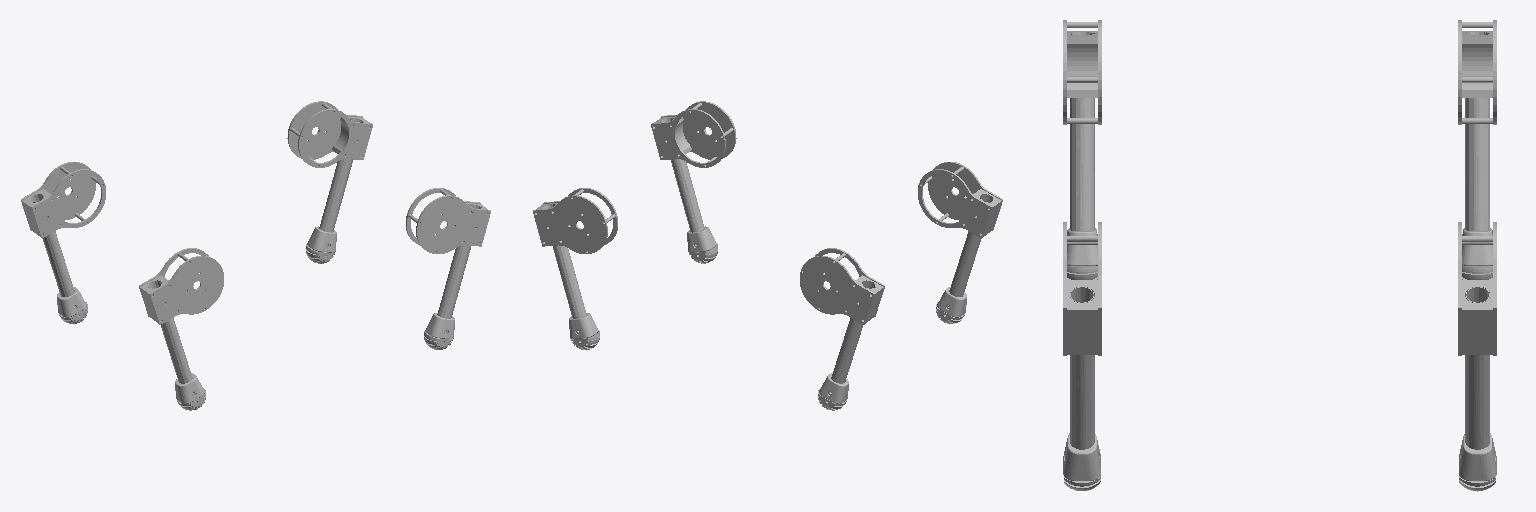
robot.urdf — legged_tinymal_description:
<?xml version="1.0" encoding="utf-8"?>
<!-- This URDF was automatically created by SolidWorks to URDF Exporter! Originally created by [author] ([email redacted]) 
     Commit Version: 1.6.0-4-g7f85cfe  Build Version: 1.6.7995.38578
     For more information, please see http://wiki.ros.org/sw_urdf_exporter -->
<robot
  name="legged_tinymal_description">
    
    <!-- <link name="base">
    <visual>
      <origin xyz="0 0 0" rpy="0 -0 0"/>
      <geometry>
        <box size="0.001 0.001 0.001"/>
      </geometry>
    </visual> -->
  <!-- </link>
    <joint name="floating_base" type="fixed">
    <origin xyz="0 0 0" rpy="0 -0 0"/>
    <axis xyz="0 0 0"/>
    <parent link="base"/>
    <child link="trunk"/>
  </joint> -->
  
  <link
    name="trunk">
    <inertial>
      <origin
        xyz="-0.00077 4E-05 0.0214"
        rpy="0 0 0" />
      <mass
        value="2.2445" />
      <inertia
        ixx="0.00464"
        ixy="0"
        ixz="-7E-05"
        iyy="0.01611"
        iyz="-1.0788E-09"
        izz="0.01829" />
    </inertial>
    <visual>
      <origin
        xyz="0 0 0"
        rpy="0 0 0" />
      <geometry>
        <mesh
          filename="../meshes/visual/trunk.STL" />
      </geometry>
      <material
        name="">
        <color
          rgba="0.75294 0.75294 0.75294 1" />
      </material>
    </visual>
    <collision>
       <origin
        xyz="0 0 0.02600"
        rpy="0 0 0" />
      <geometry>
        <box size="0.235 0.13 0.0865"/>
      </geometry>
    </collision>
  </link>
  
  <!-- IMU Sensor -->
  <link name="imu_link"/>

  <joint name="imu_joint" type="fixed">
    <parent link="trunk"/>
    <child link="imu_link"/>
    <origin xyz="0 0 0" rpy="0 0 0"/>
  </joint>

  
  <link
    name="LF_hip">
    <inertial>
      <origin
        xyz="0.03613 0.00556 -6E-05"
        rpy="0 0 0" />
      <mass
        value="0.3988" />
      <inertia
        ixx="0.0002"
        ixy="-1E-05"
        ixz="0"
        iyy="0.00019"
        iyz="0"
        izz="0.00021" />
    </inertial>
    <visual>
      <origin
        xyz="0 0 0"
        rpy="0 0 0" />
      <geometry>
        <mesh
          filename="../meshes/visual/LF_hip.STL" />
      </geometry>
      <material
        name="">
        <color
          rgba="0.75294 0.75294 0.75294 1" />
      </material>
    </visual>
    <collision>
      <origin
        xyz="0.034 0 0"
        rpy="0 0 0" />
      <geometry>
        <box size="0.0615 0.0685 0.0572"/>
      </geometry>
    </collision>
  </link>
  <joint
    name="LF_HAA"
    type="revolute">
    <origin
      xyz="0.1155 0.045 0.03125"
      rpy="0 0 0" />
    <parent
      link="trunk" />
    <child
      link="LF_hip" />
    <axis
      xyz="1 0 0" />
    <limit
      lower="-1.0"
      upper="1.0"
      effort="8"
      velocity="5" />
  </joint>
  <link
    name="LF_thigh">
    <inertial>
      <origin
        xyz="-7E-05 0.05966 -0.10269"
        rpy="0 0 0" />
      <mass
        value="0.39342" />
      <inertia
        ixx="0.00075"
        ixy="0"
        ixz="0"
        iyy="0.00077"
        iyz="7E-05"
        izz="0.00014" />
    </inertial>
    <visual>
      <origin
        xyz="0 0 0"
        rpy="0 0 0" />
      <geometry>
        <mesh
          filename="../meshes/visual/LF_thigh.STL" />
      </geometry>
      <material
        name="">
        <color
          rgba="0.75294 0.75294 0.75294 1" />
      </material>
    </visual>
    <collision>
      <origin
        xyz="0 0.04933 -0.055"
        rpy="0 0 0" />
     <geometry>
        <box size="0.058 0.025 0.17"/>
      </geometry>
    </collision>
  </link>
  <joint
    name="LF_HFE"
    type="revolute">
    <origin
      xyz="0.039 0 0"
      rpy="0 0 0" />
    <parent
      link="LF_hip" />
    <child
      link="LF_thigh" />
    <axis
      xyz="0 1 0" />
    <limit
      lower="-3.14"
      upper="3.14"
      effort="8"
      velocity="5" />
  </joint>
  <link
    name="LF_calf">
    <inertial>
      <origin
        xyz="0.017651 0.025067 -0.033532"
        rpy="0 0 0" />
      <mass
        value="0.055514" />
      <inertia
        ixx="0.0001447"
        ixy="0.0000024"
        ixz="-0.000018"
        iyy="0.00017"
        iyz="-0.0000063"
        izz="0.0000331" />
    </inertial>
    <visual>
      <origin
        xyz="0 0 0"
        rpy="0 0 0" />
      <geometry>
        <mesh
          filename="../meshes/visual/LF_calf.STL" />
      </geometry>
      <material
        name="">
        <color
          rgba="0.75294 0.75294 0.75294 1" />
      </material>
    </visual>
  <!-- <collision name="box_collision">
      <origin
        xyz="0.0265 0.0215 -0.0645"
        rpy="0 0.285515 0" />
     <geometry>
        <box size="0.02 0.02 0.151"/>
      </geometry>
    </collision>

    <collision  name="cylinder_collision">
      <origin
        xyz="0 0 0"
        rpy="1.5707963267948966 0 0" />
      <geometry>
         <cylinder length="0.059" radius="0.034"/>
      </geometry>
    </collision> -->
  </link>
  <joint
    name="LF_KFE"
    type="revolute">
    <origin
      xyz="0 0.0615 -0.12"
      rpy="0 0 0" />
    <parent
      link="LF_thigh" />
    <child
      link="LF_calf" />
    <axis
      xyz="0 1 0" />
    <limit
      lower="-3.14"
      upper="3.14"
      effort="8"
      velocity="5" />
  </joint>
  <link
    name="LF_FOOT">
    <inertial>
      <origin
        xyz="-0.00064634 -0.0001029 -0.0064935"
        rpy="0 0 0" />
      <mass
        value="0.0071899" />
      <inertia
        ixx="3.9786E-07"
        ixy="-1.6023E-11"
        ixz="-8.4272E-10"
        iyy="5.3916E-07"
        iyz="-9.4887E-13"
        izz="7.0206E-07" />
    </inertial>
    <visual>
      <origin
        xyz="0 0 0"
        rpy="0 0 0" />
      <geometry>
        <mesh
          filename="../meshes/visual/LF_FOOT.STL" />
      </geometry>
      <material
        name="">
        <color
          rgba="0.75294 0.75294 0.75294 1" />
      </material>
    </visual>
    <collision>
      <origin
        xyz="0 0 0"
        rpy="0 0 0" />
       <geometry>
         <sphere radius="0.015"/>
      </geometry>
    </collision>
  </link>
  <joint
    name="LF_foot_fixed"
    type="fixed" dont_collapse="true">
    <origin
      xyz="0.0010679 0.0215 -0.13646"
      rpy="0 0.30118 0" />
    <parent
      link="LF_calf" />
    <child
      link="LF_FOOT" />
    <axis
      xyz="0 0 0" />
  </joint>
  <link
    name="LH_hip">
    <inertial>
      <origin
        xyz="-0.03607 0.00556 0"
        rpy="0 0 0" />
      <mass
        value="0.3988" />
      <inertia
        ixx="0.0002"
        ixy="1E-05"
        ixz="0"
        iyy="0.00019"
        iyz="0"
        izz="0.00021" />
    </inertial>
    <visual>
      <origin
        xyz="0 0 0"
        rpy="0 0 0" />
      <geometry>
        <mesh
          filename="../meshes/visual/LH_hip.STL" />
      </geometry>
      <material
        name="">
        <color
          rgba="0.75294 0.75294 0.75294 1" />
      </material>
    </visual>
    <collision>
      <origin
        xyz="-0.034 0 0"
        rpy="0 0 0" />
      <geometry>
        <box size="0.0615 0.0685 0.0572"/>
      </geometry>
    </collision>
  </link>
  <joint
    name="LH_HAA"
    type="revolute">
    <origin
      xyz="-0.1155 0.045 0.03125"
      rpy="0 0 0" />
    <parent
      link="trunk" />
    <child
      link="LH_hip" />
    <axis
      xyz="1 0 0" />
    <limit
      lower="-1.0"
      upper="1.0"
      effort="8"
      velocity="5" />
  </joint>
  <link
    name="LH_thigh">
    <inertial>
      <origin
        xyz="-7E-05 0.05966 -0.10269"
        rpy="0 0 0" />
      <mass
        value="0.39342" />
      <inertia
        ixx="0.00075"
        ixy="0"
        ixz="0"
        iyy="0.00077"
        iyz="7E-05"
        izz="0.00014" />
    </inertial>
    <visual>
      <origin
        xyz="0 0 0"
        rpy="0 0 0" />
      <geometry>
        <mesh
          filename="../meshes/visual/LH_thigh.STL" />
      </geometry>
      <material
        name="">
        <color
          rgba="0.75294 0.75294 0.75294 1" />
      </material>
    </visual>
    <collision>
      <origin
        xyz="0 0.04933 -0.055"
        rpy="0 0 0" />
      <geometry>
        <box size="0.058 0.025 0.17"/>
      </geometry>
    </collision>
  </link>
  <joint
    name="LH_HFE"
    type="revolute">
    <origin
      xyz="-0.039 0 0"
      rpy="0 0 0" />
    <parent
      link="LH_hip" />
    <child
      link="LH_thigh" />
    <axis
      xyz="0 1 0" />
    <limit
      lower="-3.14"
      upper="3.14"
      effort="8"
      velocity="5" />
  </joint>
  <link
    name="LH_calf">
    <inertial>
      <origin
        xyz="-0.017651 0.025067 -0.033532"
        rpy="0 0 0" />
      <mass
        value="0.055514" />
      <inertia
        ixx="0.0001447"
        ixy="-0.0000023"
        ixz="0.000018"
        iyy="0.00017"
        iyz="-0.0000063"
        izz="0.0000331" />
    </inertial>
    <visual>
      <origin
        xyz="0 0 0"
        rpy="0 0 0" />
      <geometry>
        <mesh
          filename="../meshes/visual/LH_calf.STL" />
      </geometry>
      <material
        name="">
        <color
          rgba="0.75294 0.75294 0.75294 1" />
      </material>
    </visual>
    <!-- <collision name="box_collision">
        <origin
          xyz="-0.0265 0.0215 -0.0645"
          rpy="0 -0.285515 0" />
      <geometry>
          <box size="0.02 0.02 0.151"/>
        </geometry>
      </collision>

      <collision  name="cylinder_collision">
        <origin
          xyz="0 0 0"
          rpy="1.5707963267948966 0 0" />
        <geometry>
          <cylinder length="0.059" radius="0.034"/>
        </geometry>
      </collision> -->
  </link>
  <joint
    name="LH_KFE"
    type="revolute">
    <origin
      xyz="0 0.0615 -0.12"
      rpy="0 0 0" />
    <parent
      link="LH_thigh" />
    <child
      link="LH_calf" />
    <axis
      xyz="0 1 0" />
    <limit
      lower="-3.14"
      upper="3.14"
      effort="8"
      velocity="5" />
  </joint>
  <link
    name="LH_FOOT">
    <inertial>
      <origin
        xyz="0.00064634 0.00010256 -0.0064935"
        rpy="0 0 0" />
      <mass
        value="0.0071899" />
      <inertia
        ixx="3.9786E-07"
        ixy="-1.6023E-11"
        ixz="8.4272E-10"
        iyy="5.3916E-07"
        iyz="9.4887E-13"
        izz="7.0206E-07" />
    </inertial>
    <visual>
      <origin
        xyz="0 0 0"
        rpy="0 0 0" />
      <geometry>
        <mesh
          filename="../meshes/visual/LH_FOOT.STL" />
      </geometry>
      <material
        name="">
        <color
          rgba="0.75294 0.75294 0.75294 1" />
      </material>
    </visual>
    <collision>
      <origin
        xyz="0 0 0"
        rpy="0 0 0" />
      <geometry>
         <sphere radius="0.015"/>
      </geometry>
    </collision>
  </link>
  <joint
    name="LH_foot_fixed"
    type="fixed" dont_collapse="true">
    <origin
      xyz="-0.0010679 0.0215 -0.13646"
      rpy="0 -0.30118 0" />
    <parent
      link="LH_calf" />
    <child
      link="LH_FOOT" />
    <axis
      xyz="0 0 0" />
  </joint>
  <link
    name="RF_hip">
    <inertial>
      <origin
        xyz="0.03613 -0.00556 6E-05"
        rpy="0 0 0" />
      <mass
        value="0.3988" />
      <inertia
        ixx="0.0002"
        ixy="1E-05"
        ixz="0"
        iyy="0.00019"
        iyz="0"
        izz="0.00021" />
    </inertial>
    <visual>
      <origin
        xyz="0 0 0"
        rpy="0 0 0" />
      <geometry>
        <mesh
          filename="../meshes/visual/RF_hip.STL" />
      </geometry>
      <material
        name="">
        <color
          rgba="0.75294 0.75294 0.75294 1" />
      </material>
    </visual>
    <collision>
      <origin
        xyz="0.034 0 0"
        rpy="0 0 0" />
      <geometry>
        <box size="0.0615 0.0685 0.0572"/>
      </geometry>
    </collision>
  </link>
  <joint
    name="RF_HAA"
    type="revolute">
    <origin
      xyz="0.1155 -0.045 0.03125"
      rpy="0 0 0" />
    <parent
      link="trunk" />
    <child
      link="RF_hip" />
    <axis
      xyz="1 0 0" />
    <limit
      lower="-1.0"
      upper="1.0"
      effort="8"
      velocity="5" />
  </joint>
  <link
    name="RF_thigh">
    <inertial>
      <origin
        xyz="7E-05 -0.05966 -0.10269"
        rpy="0 0 0" />
      <mass
        value="0.39342" />
      <inertia
        ixx="0.00075"
        ixy="0"
        ixz="0"
        iyy="0.00077"
        iyz="-7E-05"
        izz="0.00014" />
    </inertial>
    <visual>
      <origin
        xyz="0 0 0"
        rpy="0 0 0" />
      <geometry>
        <mesh
          filename="../meshes/visual/RF_thigh.STL" />
      </geometry>
      <material
        name="">
        <color
          rgba="0.75294 0.75294 0.75294 1" />
      </material>
    </visual>
    <collision>
      <origin
        xyz="0 -0.04933 -0.055"
        rpy="0 0 0" />
     <geometry>
        <box size="0.058 0.025 0.17"/>
      </geometry>
    </collision>
  </link>
  <joint
    name="RF_HFE"
    type="revolute">
    <origin
      xyz="0.039 0 0"
      rpy="0 0 0" />
    <parent
      link="RF_hip" />
    <child
      link="RF_thigh" />
    <axis
      xyz="0 1 0" />
    <limit
      lower="-3.14"
      upper="3.14"
      effort="8"
      velocity="5" />
  </joint>
  <link
    name="RF_calf">
    <inertial>
      <origin
        xyz="0.017651 -0.025067 -0.033532"
        rpy="0 0 0" />
      <mass
        value="0.055514" />
      <inertia
        ixx="0.0001447"
        ixy="-0.0000023"
        ixz="-0.000018"
        iyy="0.00017"
        iyz="0.0000063"
        izz="0.0000331" />
    </inertial>
    <visual>
      <origin
        xyz="0 0 0"
        rpy="0 0 0" />
      <geometry>
        <mesh
          filename="../meshes/visual/RF_calf.STL" />
      </geometry>
      <material
        name="">
        <color
          rgba="0.75294 0.75294 0.75294 1" />
      </material>
    </visual>
    <!-- <collision name="box_collision">
      <origin
        xyz="0.0265 -0.0215 -0.0645"
        rpy="0 0.285515 0" />
     <geometry>
        <box size="0.02 0.02 0.151"/>
      </geometry>
    </collision>

    <collision  name="cylinder_collision">
      <origin
        xyz="0 0 0"
        rpy="1.5707963267948966 0 0" />
      <geometry>
         <cylinder length="0.059" radius="0.034"/>
      </geometry>
    </collision> -->
  </link>
  <joint
    name="RF_KFE"
    type="revolute">
    <origin
      xyz="0 -0.0615 -0.12"
      rpy="0 0 0" />
    <parent
      link="RF_thigh" />
    <child
      link="RF_calf" />
    <axis
      xyz="0 1 0" />
    <limit
      lower="-3.14"
      upper="3.14"
      effort="8"
      velocity="5" />
  </joint>
  <link
    name="RF_FOOT">
    <inertial>
      <origin
        xyz="-0.000646344707630891 -0.000102557226076855 -0.00649347563476943"
        rpy="0 0 0" />
      <mass
        value="0.00718991200200165" />
      <inertia
        ixx="3.97863421526666E-07"
        ixy="-1.60233402167348E-11"
        ixz="-8.42722301567321E-10"
        iyy="5.39156314496222E-07"
        iyz="-9.48867150910211E-13"
        izz="7.020631044807E-07" />
    </inertial>
    <visual>
      <origin
        xyz="0 0 0"
        rpy="0 0 0" />
      <geometry>
        <mesh
          filename="../meshes/visual/RF_FOOT.STL" />
      </geometry>
      <material
        name="">
        <color
          rgba="0.752941176470588 0.752941176470588 0.752941176470588 1" />
      </material>
    </visual>
    <collision>
      <origin
        xyz="0 0 0"
        rpy="0 0 0" />
      <geometry>
          <sphere radius="0.015"/>
      </geometry>
    </collision>
  </link>
  <joint
    name="RF_foot_fixed"
    type="fixed" dont_collapse="true">
    <origin
      xyz="0.00106792747273632 -0.0215000000000012 -0.136459186319245"
      rpy="0 0.30117918583646 0" />
    <parent
      link="RF_calf" />
    <child
      link="RF_FOOT" />
    <axis
      xyz="0 0 0" />
  </joint>
  <link
    name="RH_hip">
    <inertial>
      <origin
        xyz="-0.0362 -0.00556 0"
        rpy="0 0 0" />
      <mass
        value="0.3988" />
      <inertia
        ixx="0.0002"
        ixy="-1E-05"
        ixz="0"
        iyy="0.00019"
        iyz="0"
        izz="0.00021" />
    </inertial>
    <visual>
      <origin
        xyz="0 0 0"
        rpy="0 0 0" />
      <geometry>
        <mesh
          filename="../meshes/visual/RH_hip.STL" />
      </geometry>
      <material
        name="">
        <color
          rgba="1 1 1 1" />
      </material>
    </visual>
    <collision>
       <origin
        xyz="-0.034 0 0"
        rpy="0 0 0" />
      <geometry>
        <box size="0.0615 0.0685 0.0572"/>
      </geometry>
    </collision>
  </link>
  <joint
    name="RH_HAA"
    type="revolute">
    <origin
      xyz="-0.1155 -0.0449999999999956 0.0312500000000044"
      rpy="0 0 0" />
    <parent
      link="trunk" />
    <child
      link="RH_hip" />
    <axis
      xyz="1 0 0" />
    <limit
      lower="-1.0"
      upper="1.0"
      effort="8"
      velocity="5" />
  </joint>
  <link
    name="RH_thigh">
    <inertial>
      <origin
        xyz="7E-05 -0.05966 -0.10269"
        rpy="0 0 0" />
      <mass
        value="0.39342" />
      <inertia
        ixx="0.00075"
        ixy="0"
        ixz="0"
        iyy="0.00077"
        iyz="-7E-05"
        izz="0.00014" />
    </inertial>
    <visual>
      <origin
        xyz="0 0 0"
        rpy="0 0 0" />
      <geometry>
        <mesh
          filename="../meshes/visual/RH_thigh.STL" />
      </geometry>
      <material
        name="">
        <color
          rgba="0.75294 0.75294 0.75294 1" />
      </material>
    </visual>
    <collision>
      <origin
        xyz="0 -0.04933 -0.055"
        rpy="0 0 0" />
     <geometry>
        <box size="0.058 0.025 0.17"/>
      </geometry>
    </collision>
  </link>
  <joint
    name="RH_HFE"
    type="revolute">
    <origin
      xyz="-0.0390000000000044 0 0"
      rpy="0 0 0" />
    <parent
      link="RH_hip" />
    <child
      link="RH_thigh" />
    <axis
      xyz="0 1 0" />
    <limit
      lower="-3.14"
      upper="3.14"
      effort="8"
      velocity="5" />
  </joint>
  <link
    name="RH_calf">
    <inertial>
      <origin
        xyz="-0.017651 -0.025067 -0.033532"
        rpy="0 0 0" />
      <mass
        value="0.055514" />
      <inertia
        ixx="0.0001447"
        ixy="0.0000023"
        ixz="0.000018"
        iyy="0.00017"
        iyz="0.0000063"
        izz="0.0000331" />
    </inertial>
    <visual>
      <origin
        xyz="0 0 0"
        rpy="0 0 0" />
      <geometry>
        <mesh
          filename="../meshes/visual/RH_calf.STL" />
      </geometry>
      <material
        name="">
        <color
          rgba="0.75294 0.75294 0.75294 1" />
      </material>
    </visual>
    <!-- <collision name="box_collision">
        <origin
          xyz="-0.0265 -0.0215 -0.0645"
          rpy="0 -0.285515 0" />
      <geometry>
          <box size="0.02 0.02 0.151"/>
        </geometry>
      </collision>

      <collision  name="cylinder_collision">
        <origin
          xyz="0 0 0"
          rpy="1.5707963267948966 0 0" />
        <geometry>
          <cylinder length="0.059" radius="0.034"/>
        </geometry>
      </collision> -->
  </link>
  <joint
    name="RH_KFE"
    type="revolute">
    <origin
      xyz="0 -0.0615000000000002 -0.12"
      rpy="0 0 0" />
    <parent
      link="RH_thigh" />
    <child
      link="RH_calf" />
    <axis
      xyz="0 1 0" />
    <limit
      lower="-3.14"
      upper="3.14"
      effort="8"
      velocity="5" />
  </joint>
  <link
    name="RH_FOOT">
    <inertial>
      <origin
        xyz="0.00064634 -9.7103E-05 -0.0064935"
        rpy="0 0 0" />
      <mass
        value="0.0071899" />
      <inertia
        ixx="3.9786E-07"
        ixy="-1.6023E-11"
        ixz="8.4272E-10"
        iyy="5.3916E-07"
        iyz="9.4887E-13"
        izz="7.0206E-07" />
    </inertial>
    <visual>
      <origin
        xyz="0 0 0"
        rpy="0 0 0" />
      <geometry>
        <mesh
          filename="../meshes/visual/RH_FOOT.STL" />
      </geometry>
      <material
        name="">
        <color
          rgba="0.75294 0.75294 0.75294 1" />
      </material>
    </visual>
    <collision>
      <origin
        xyz="0 0 0"
        rpy="0 0 0" />
      <geometry>
        <sphere radius="0.015"/>
      </geometry>
    </collision>
  </link>
  <joint
    name="RH_foot_fixed"
    type="fixed" dont_collapse="true">
    <origin
      xyz="-0.00106792747296694 -0.0215000000000003 -0.136459186319022"
      rpy="0 -0.30117918583575 0" />
    <parent
      link="RH_calf" />
    <child
      link="RH_FOOT" />
    <axis
      xyz="0 0 0" />
  </joint>
</robot>

--- Render facts (derived) ---
3 views of the same robot in one strip: view 1: azimuth 30°, elevation 25°; view 2: azimuth 150°, elevation 25°; view 3: azimuth 270°, elevation 25° (orthographic).
Robot: legged_tinymal_description — 18 links, 17 joints (12 revolute, 5 fixed); root link trunk; default pose: every joint at zero.
Links seen in each view (by area): view 1: LF_calf, RH_calf, LH_calf, RF_calf; view 2: RF_calf, LH_calf, RH_calf, LF_calf; view 3: RF_calf, LF_calf, LH_calf, RH_calf.
Link boxes in pixels (x1=…): LF_calf: x1=287, y1=101, x2=372, y2=252; RH_calf: x1=139, y1=248, x2=223, y2=403; LH_calf: x1=21, y1=162, x2=105, y2=317; RF_calf: x1=406, y1=188, x2=490, y2=338; RF_calf: x1=651, y1=101, x2=736, y2=252; LH_calf: x1=800, y1=248, x2=884, y2=403; RH_calf: x1=918, y1=162, x2=1002, y2=317; LF_calf: x1=533, y1=188, x2=617, y2=338; RF_calf: x1=1063, y1=222, x2=1101, y2=480; LF_calf: x1=1458, y1=222, x2=1496, y2=480; LH_calf: x1=1458, y1=20, x2=1496, y2=265; RH_calf: x1=1063, y1=20, x2=1101, y2=265.
Bounding box of the posed robot: 0.4275 × 0.281 × 0.1869 m (x, y, z).
8 mesh visuals loaded from 17 distinct referenced files (8 binary STL); not drawn: 9 (reference not matched to a file when rendering).